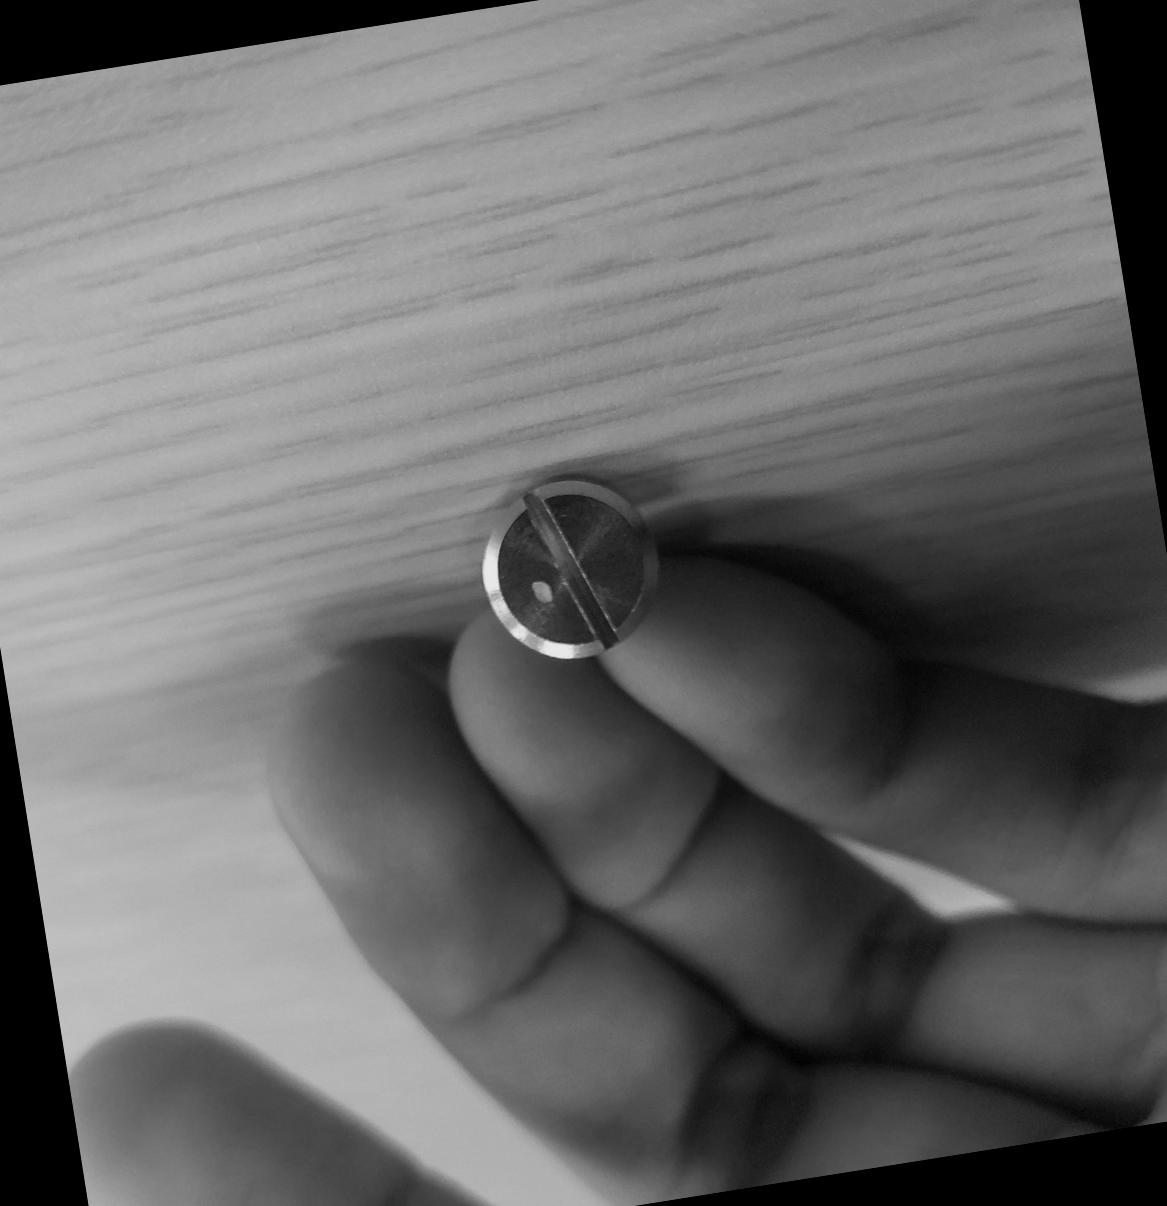slotted: (470, 466, 674, 673)
